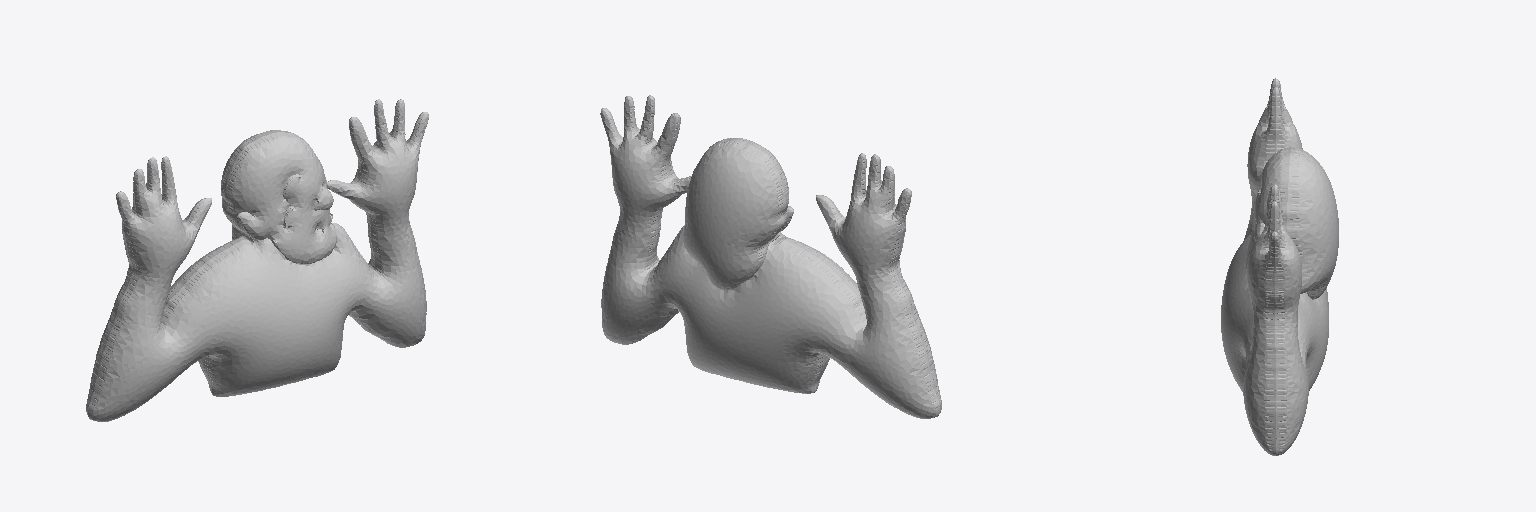
Rendered from smushface.obj.
3 views of the same model, side by side, from view 1: azimuth 30°, elevation 25°; view 2: azimuth 150°, elevation 25°; view 3: azimuth 270°, elevation 25° (orthographic).
Visible parts, largest first — view 1: Mesh_0.002; view 2: Mesh_0.002; view 3: Mesh_0.002.
Part boxes in pixels (x1,y1,x2,y2): Mesh_0.002: (86, 99, 428, 421); Mesh_0.002: (600, 95, 941, 418); Mesh_0.002: (1221, 78, 1338, 455).
Size of the model in its own units: 7.85 by 5.71 by 2.37.